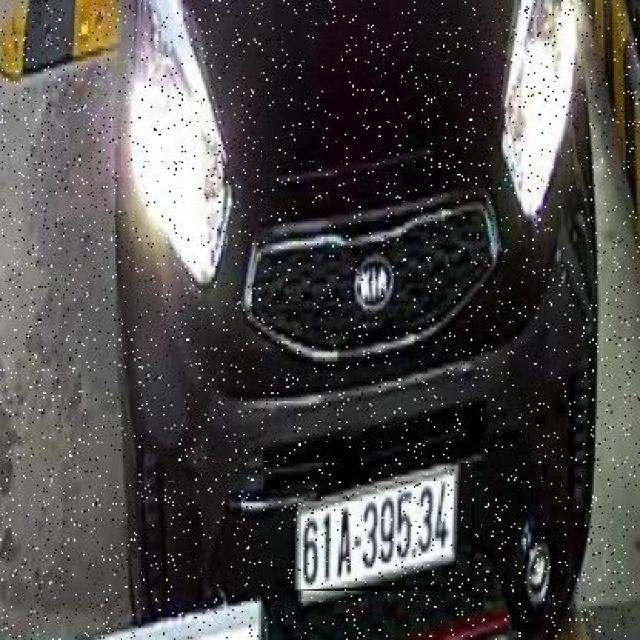number_plate: (286, 463, 474, 591)
